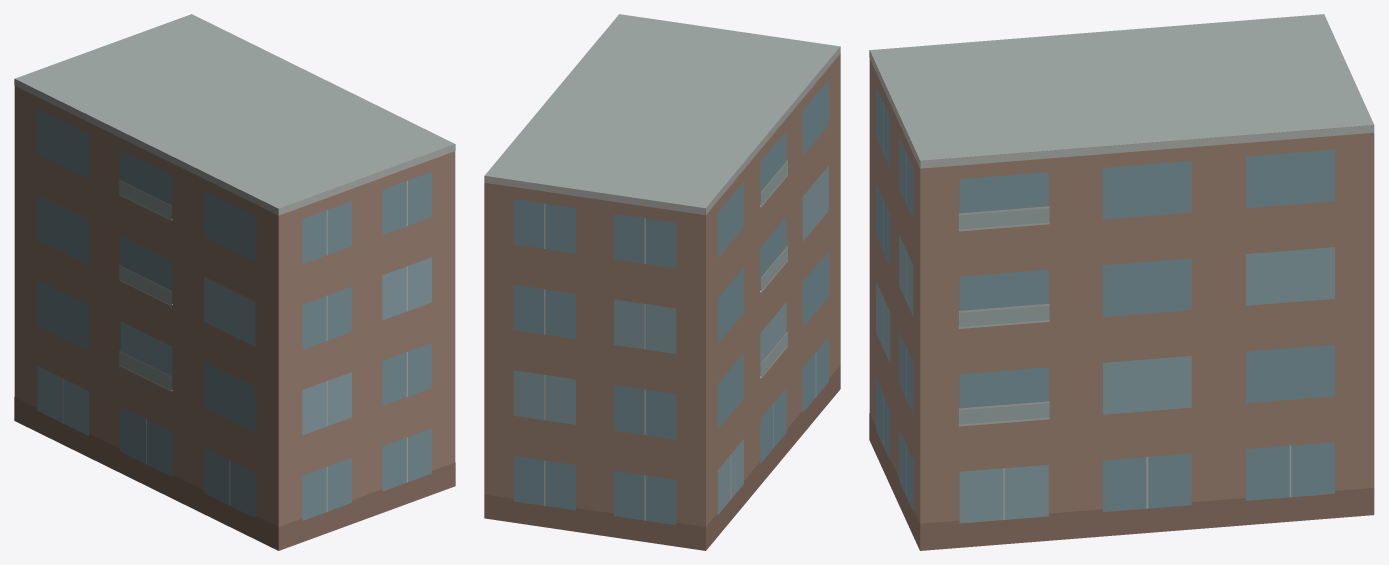
The model's file is survey-upis-32706229.glb.
3 renders of one model, left to right at view 1: azimuth 30°, elevation 25°; view 2: azimuth 150°, elevation 25°; view 3: azimuth 270°, elevation 25°, orthographic. The views are drawn at different scales.
Parts seen in each view (by area): view 1: survey-upis-32706229.tmp; view 2: survey-upis-32706229.tmp; view 3: survey-upis-32706229.tmp.
Part boxes in pixels (x1,y1,x2,y2): survey-upis-32706229.tmp: (14, 14, 455, 550); survey-upis-32706229.tmp: (484, 14, 840, 550); survey-upis-32706229.tmp: (869, 14, 1374, 550).
Bounding box in the file's own units: 9.73 × 12.05 × 14.14.
